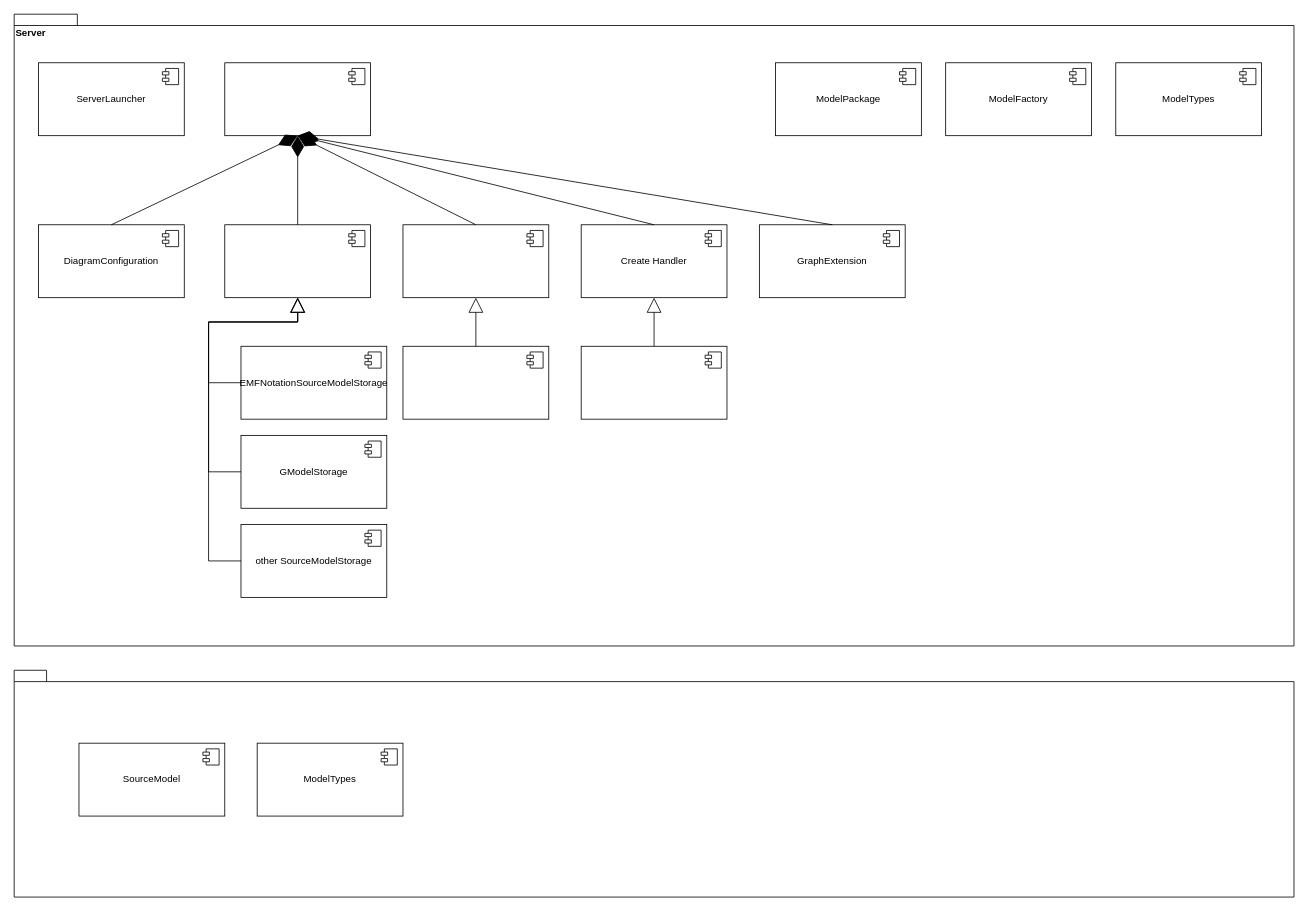
Some shapes in this 1308 by 911 pixel diagram are drawn without their labels. The box of each missing label's shape, as (x1, y1, x2, y2) in pixels:
Client: (13, 669, 1294, 897)
custom Create Handler: (580, 345, 727, 419)
custom GModelFactory: (402, 345, 549, 419)
DiagramModule: (224, 62, 371, 136)
GModelFactory: (402, 224, 549, 298)
SourceModelStorage: (224, 224, 371, 298)
